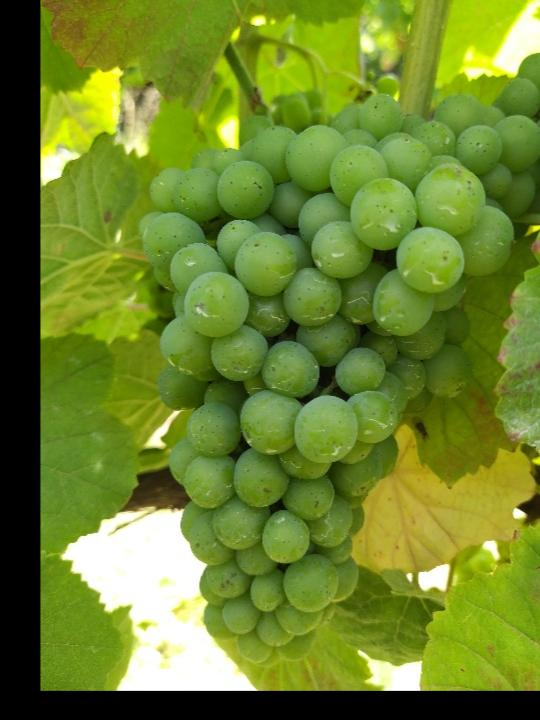grape: (130, 122, 522, 669)
